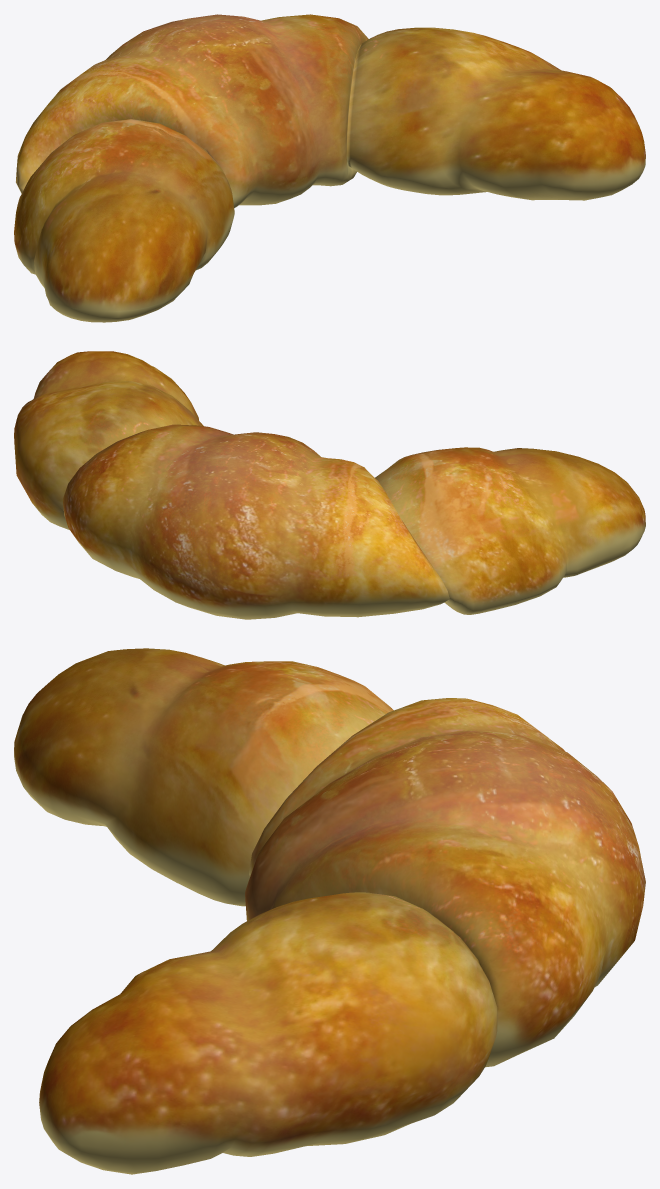
The model's file is Croissant.FBX.
3 views of the same model, one above another, from view 1: azimuth 30°, elevation 25°; view 2: azimuth 150°, elevation 25°; view 3: azimuth 270°, elevation 25° (orthographic). The views are drawn at different scales.
Visible parts, largest first — view 1: Croissant; view 2: Croissant; view 3: Croissant.
Part boxes in pixels (<box>): Croissant: <box>14,14,645,322</box>; Croissant: <box>14,351,645,619</box>; Croissant: <box>14,648,645,1174</box>.
Bounding box in the file's own units: 20.15 × 5.15 × 12.34.
1 material, 1 textured.
